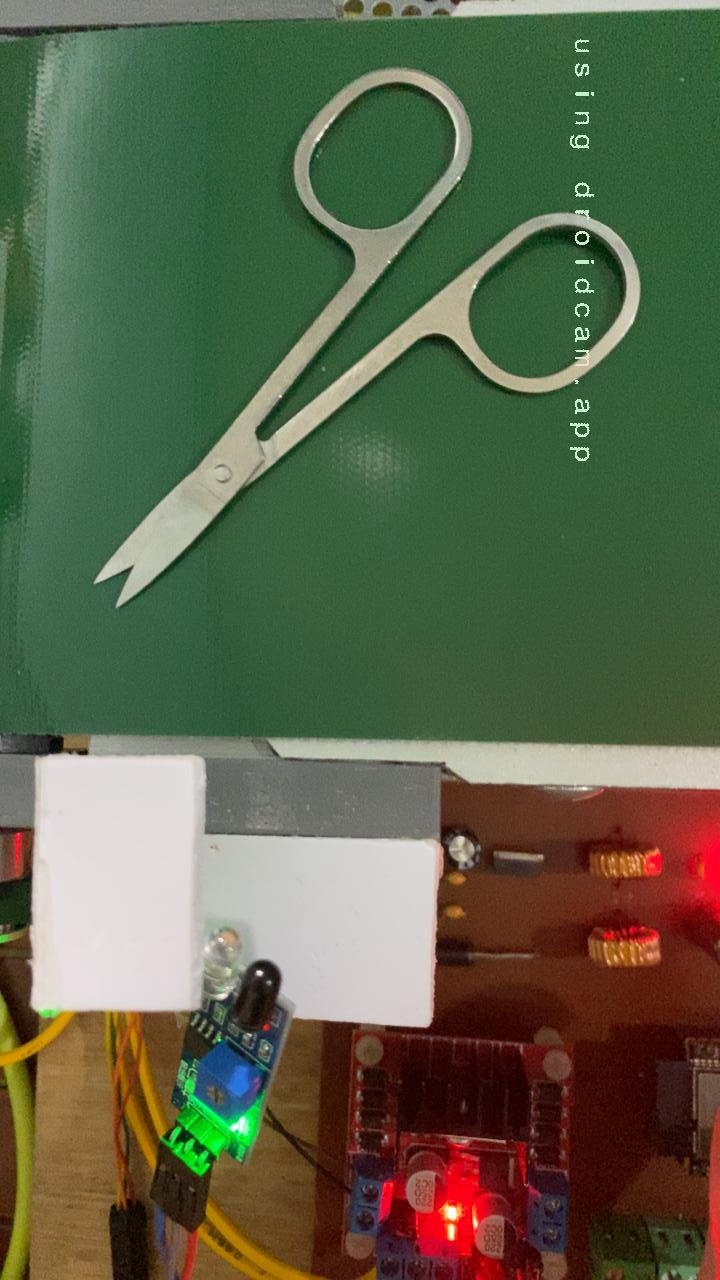scissor: (89, 203, 648, 614)
